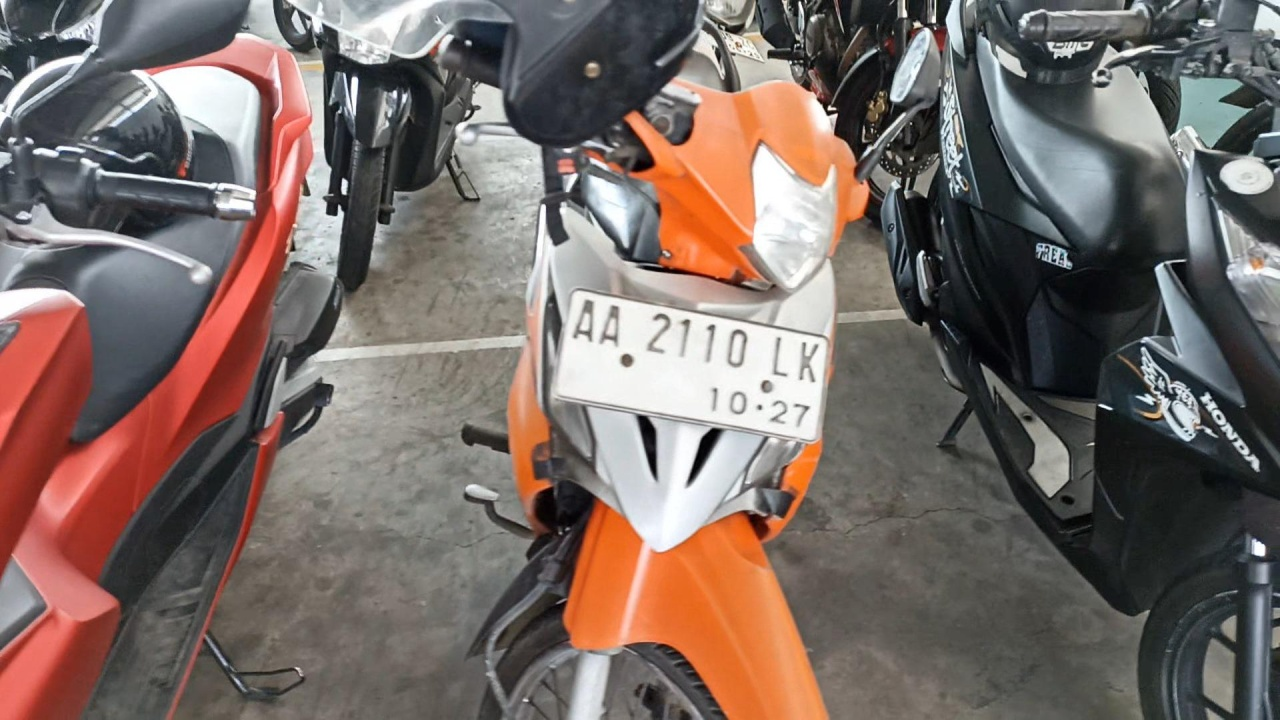plate: (551, 288, 831, 445)
